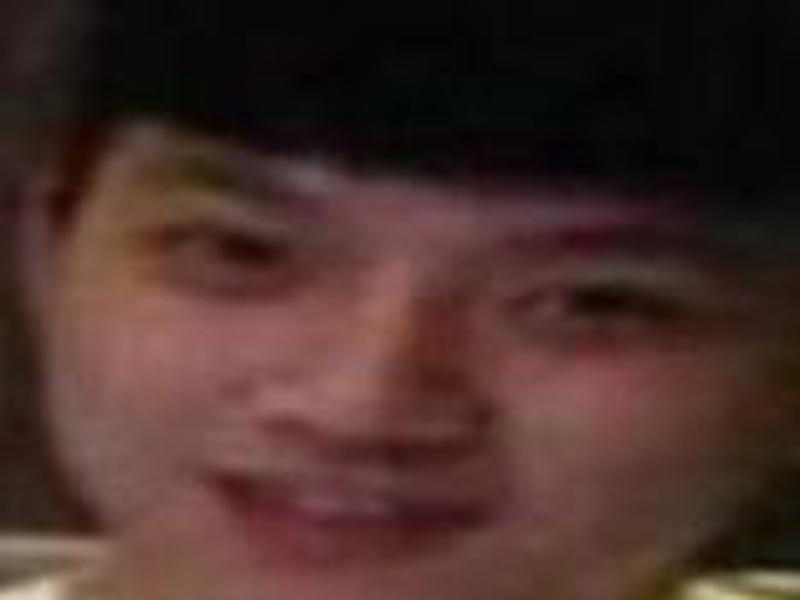without_mask: (46, 125, 766, 589)
